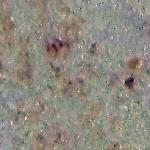dead: (2, 4, 147, 146)
